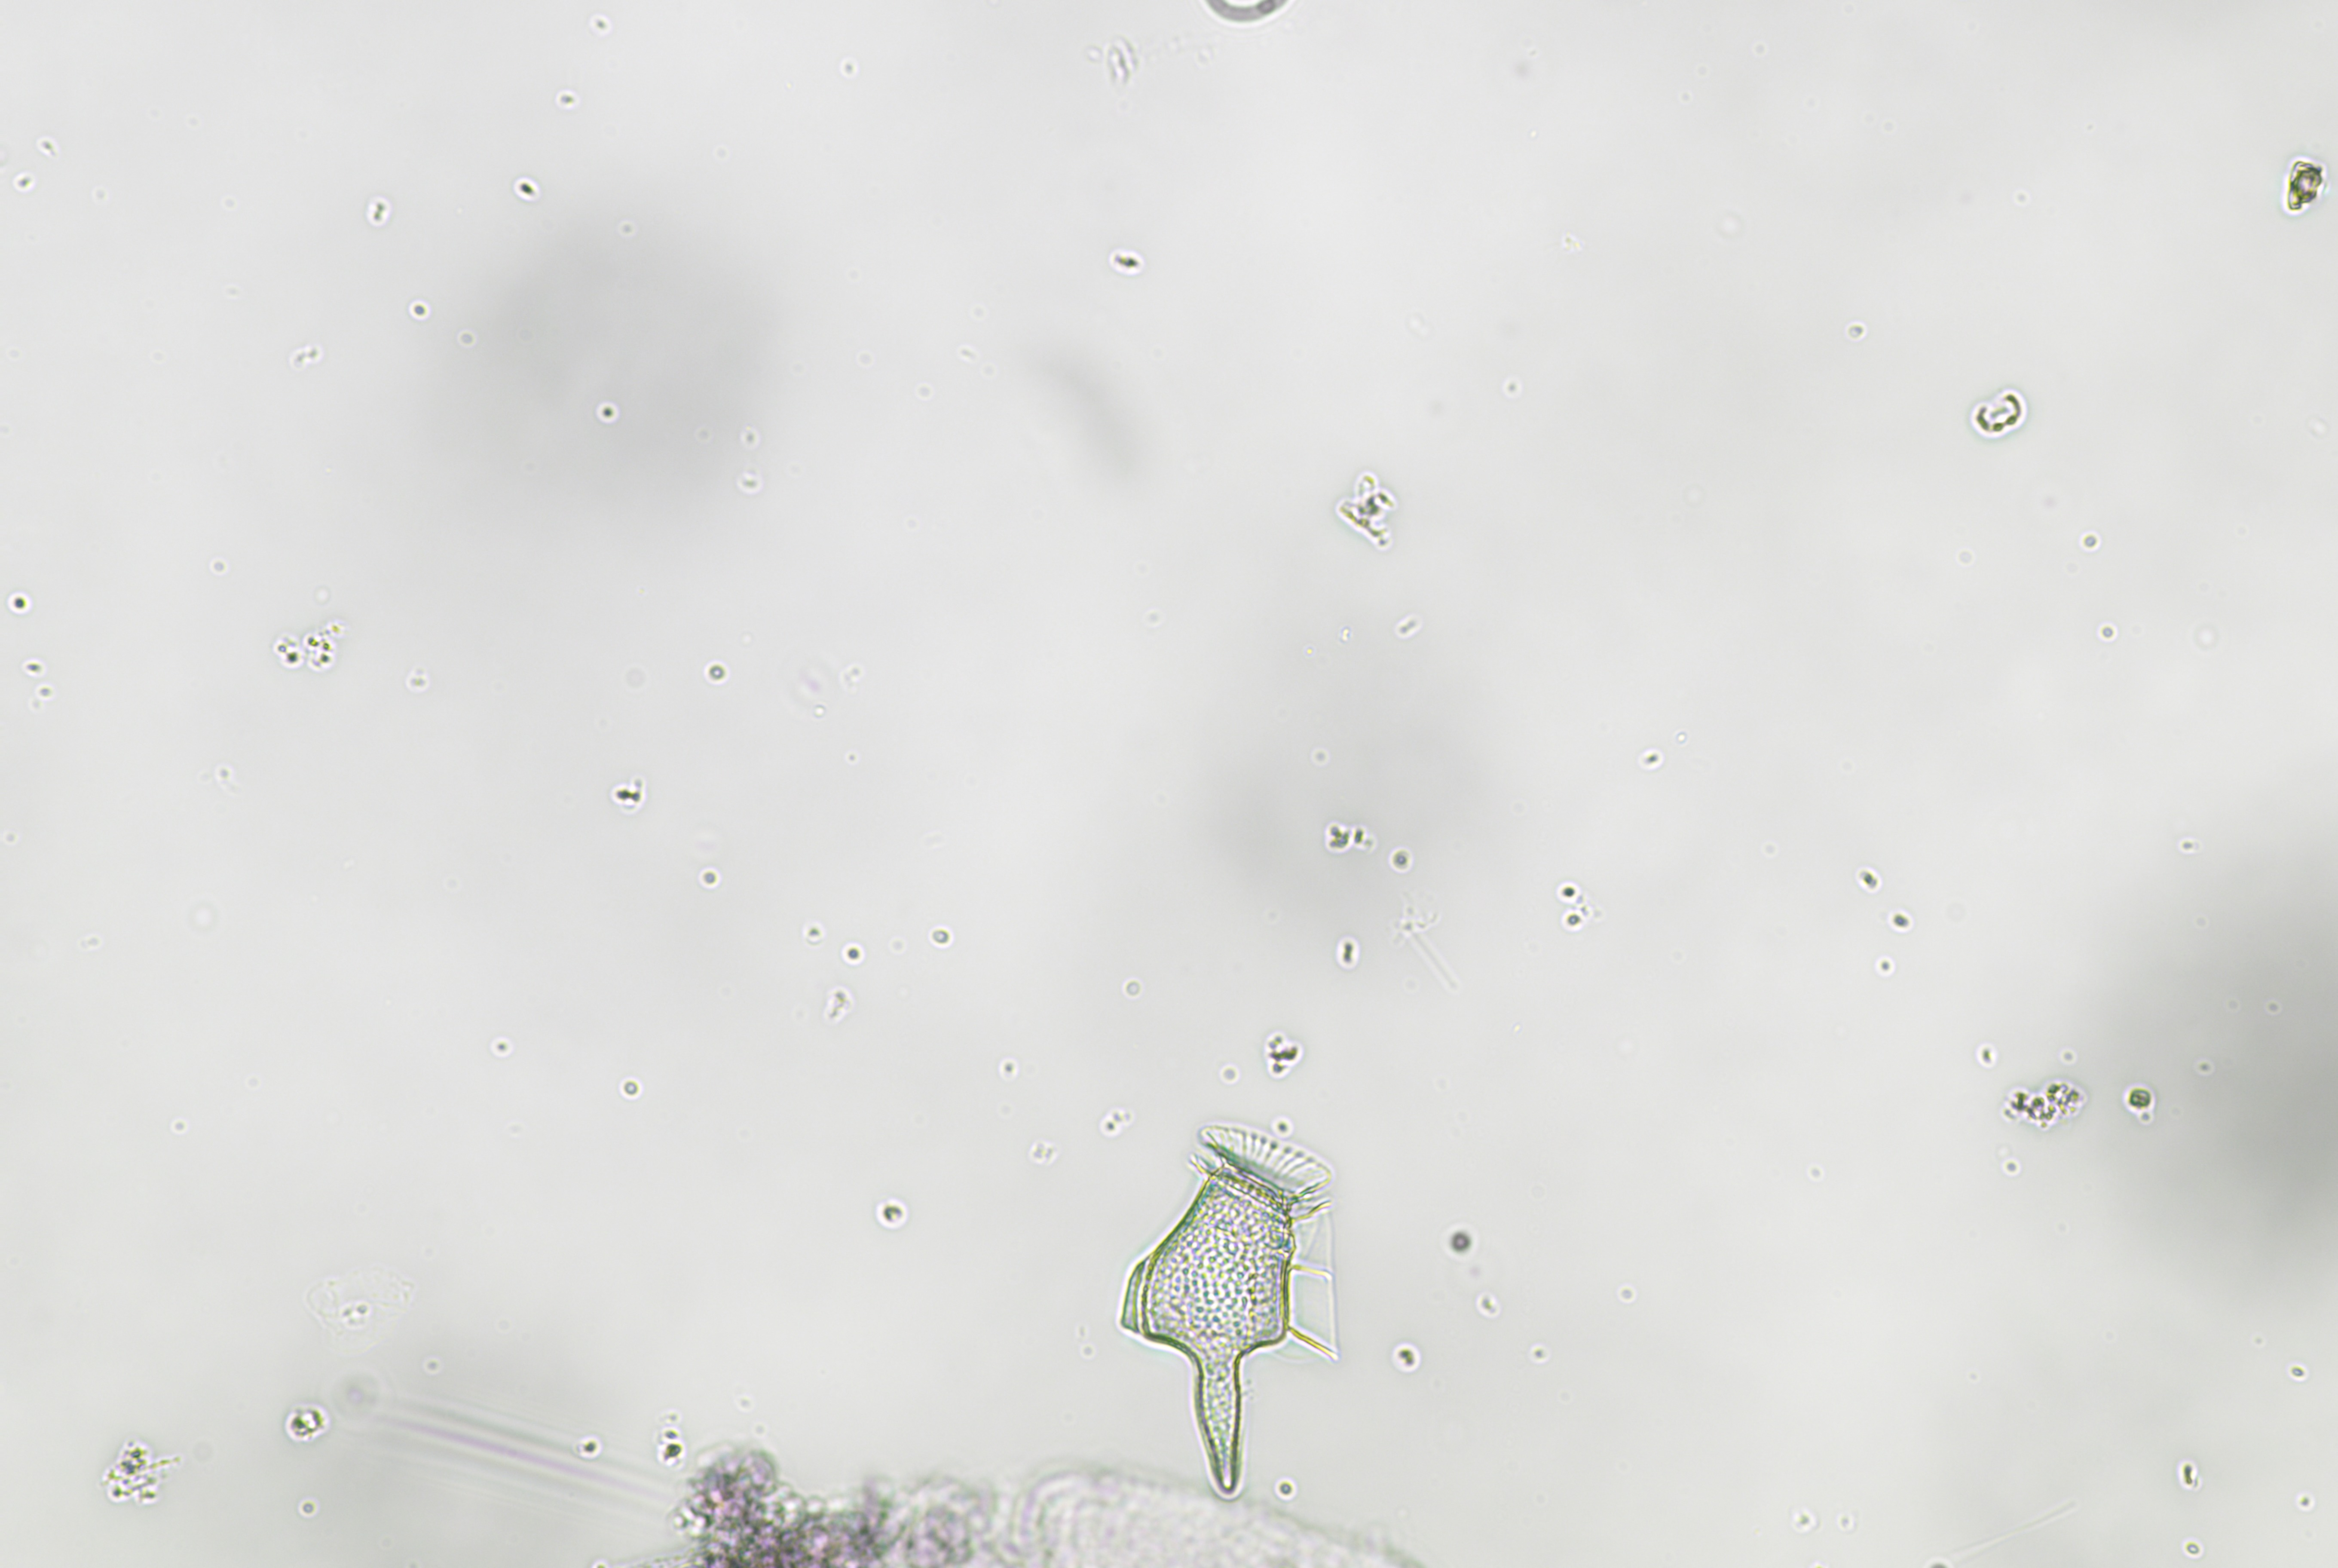dinophysis caudata: (1096, 1130, 1367, 1507)
